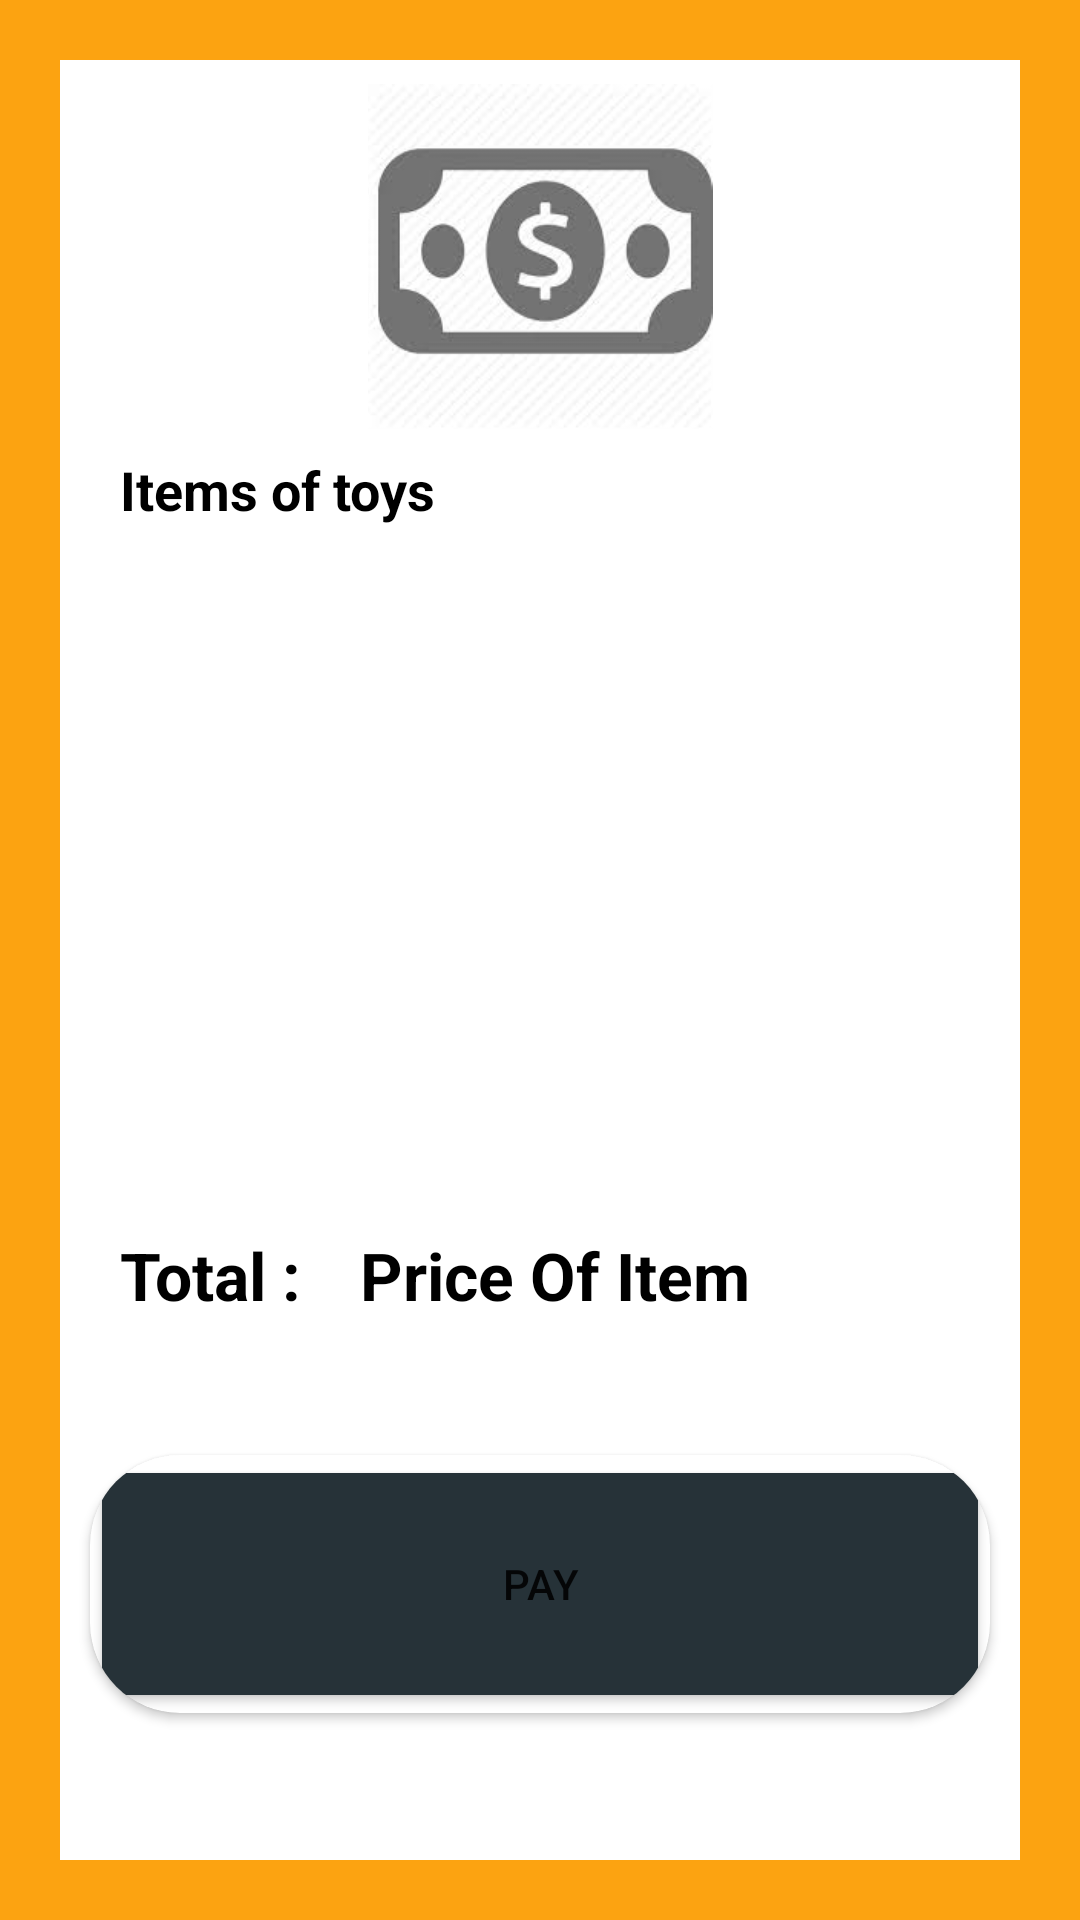

Point at icon controls on the screen. Image size 1080w x 1920h, points as (x=x, y=y).
money: (x=545, y=251)
